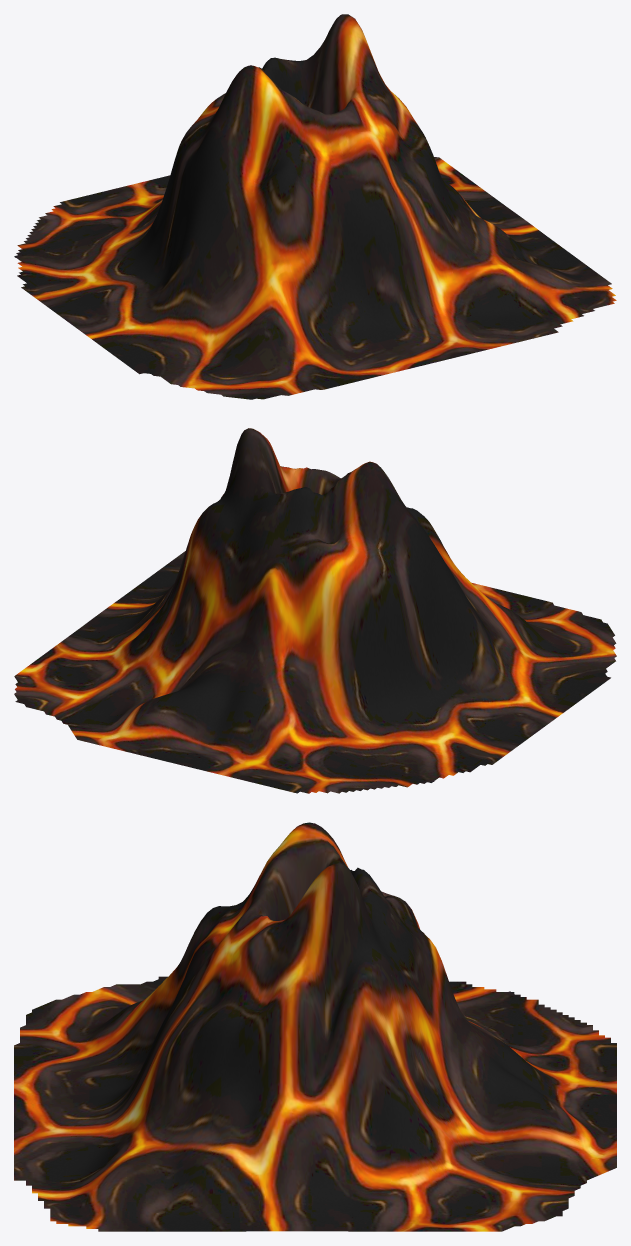
Rendered from volcan.obj.
The picture shows the model from 3 angles, top to bottom: view 1: azimuth 30°, elevation 25°; view 2: azimuth 150°, elevation 25°; view 3: azimuth 270°, elevation 25°; orthographic projection. The views are drawn at different scales.
Parts seen in each view (by area): view 1: Plane01; view 2: Plane01; view 3: Plane01.
Boxes of the visible parts, x1=… form: Plane01: x1=14, y1=14, x2=616, y2=399; Plane01: x1=14, y1=428, x2=616, y2=793; Plane01: x1=14, y1=822, x2=616, y2=1231.
Size of the model in its own units: 215 by 108 by 215.
1 material, 1 textured.
